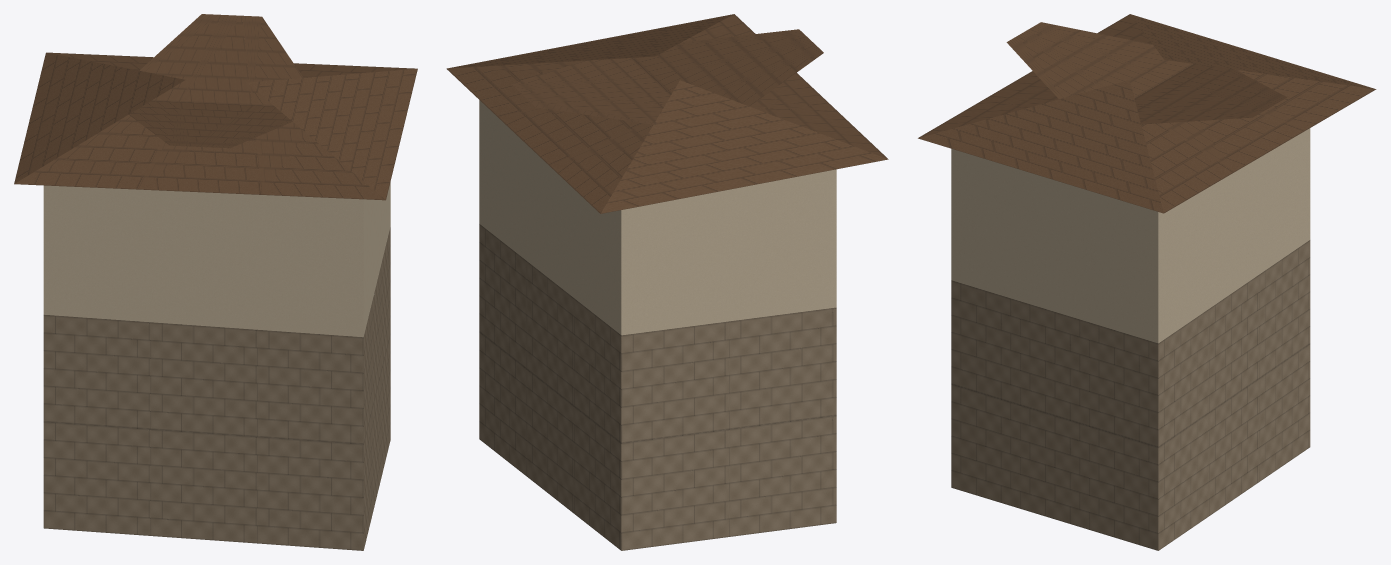
The model's file is bld_c33_-28_461.gltf.
3 views of the same model, side by side, from view 1: azimuth 30°, elevation 25°; view 2: azimuth 150°, elevation 25°; view 3: azimuth 270°, elevation 25° (orthographic). The views are drawn at different scales.
Visible parts, largest first — view 1: bld_c33_-28_461; view 2: bld_c33_-28_461; view 3: bld_c33_-28_461.
Part boxes in pixels (box(x1,y1,x2,y2)): bld_c33_-28_461: box(14, 14, 417, 550); bld_c33_-28_461: box(446, 14, 888, 550); bld_c33_-28_461: box(918, 14, 1376, 550).
Bounding box in the file's own units: 9.74 × 9 × 9.47.
Materials: 3 (3 with a texture image).
